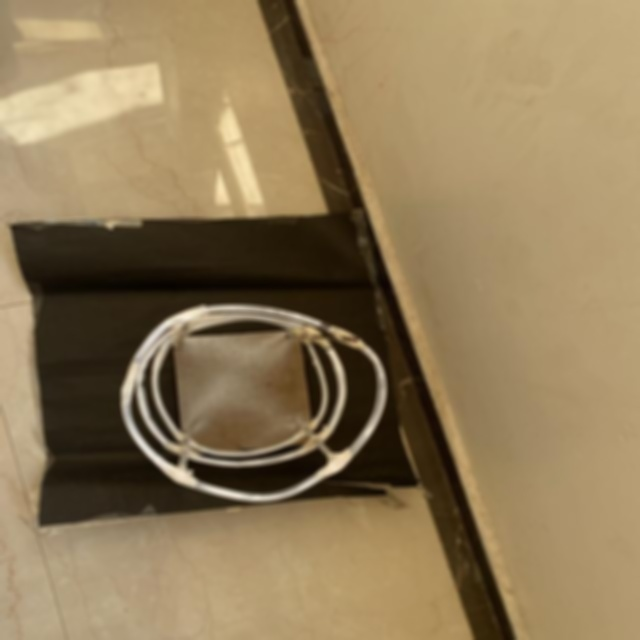silo: (110, 302, 389, 505)
